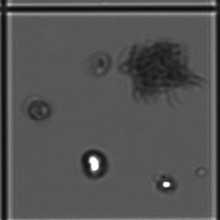Dead Cell: (25, 98, 53, 123), (90, 52, 113, 78)
Living Cell: (81, 145, 111, 179), (154, 171, 180, 198)
